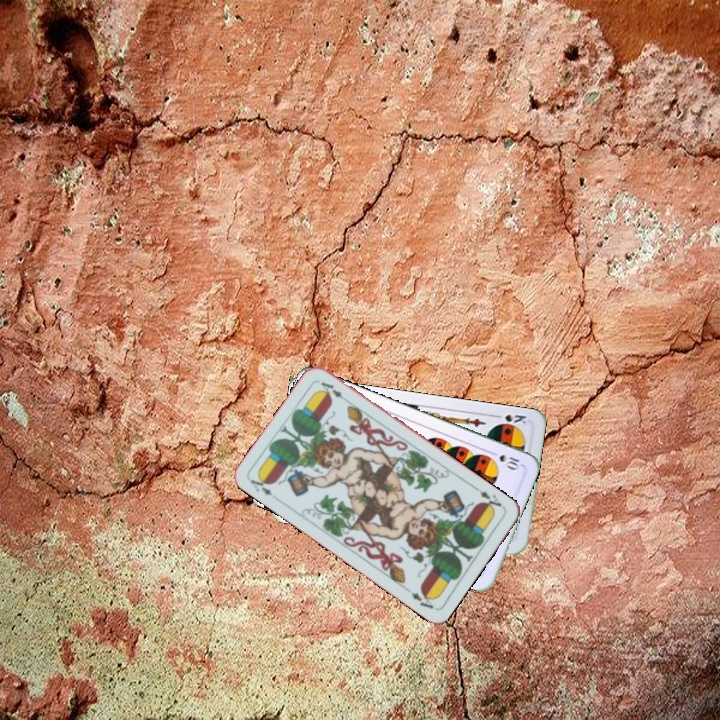EA: (246, 472, 281, 503), (475, 487, 504, 515)
S10: (485, 447, 524, 472)
SK: (490, 410, 529, 427)
